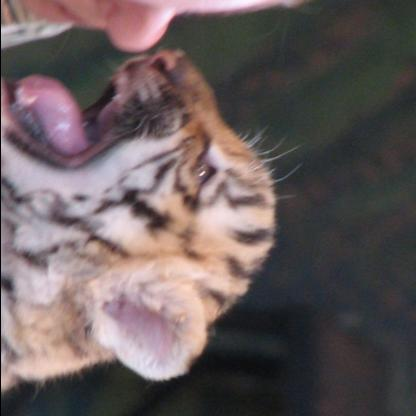tiger: (1, 50, 281, 386)
